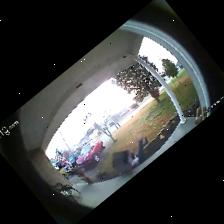person: (131, 136, 148, 167)
